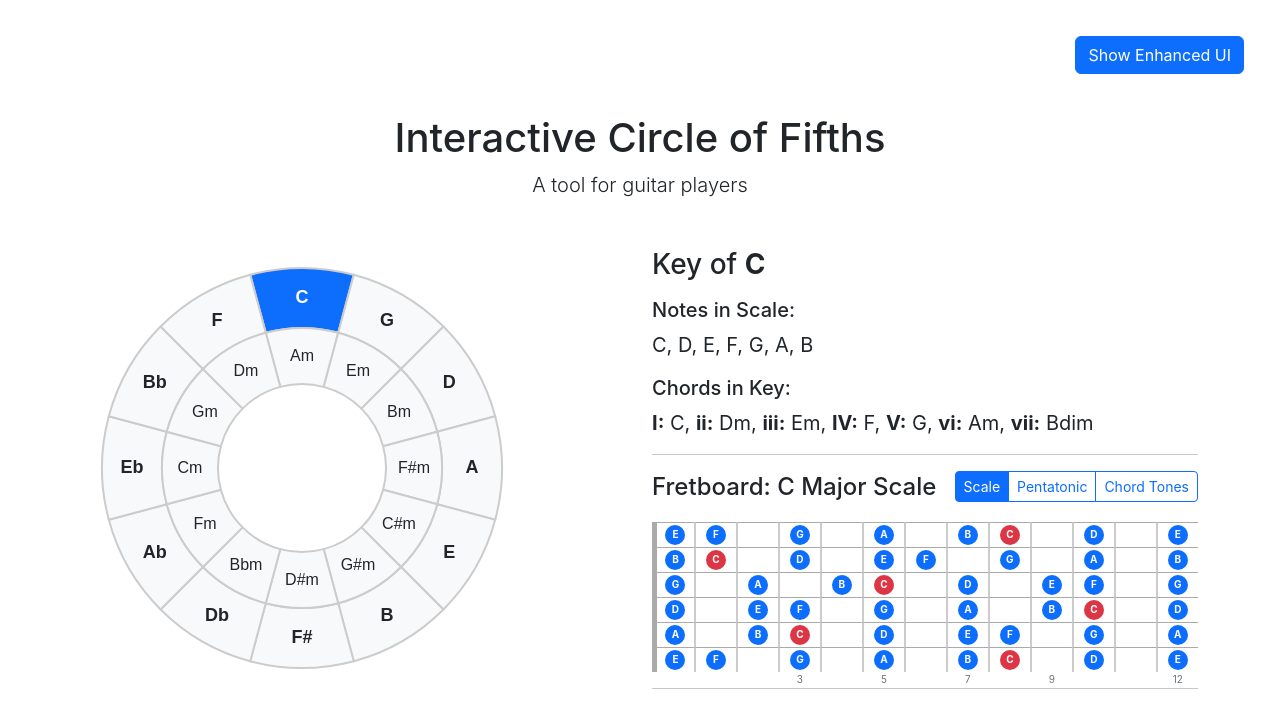
Test: toggles between original and enhanced UI
The image size is (1280, 704).
Expected: the text "A tool for guitar players" is shown, top-left (532, 173), bottom-right (748, 197)
Note: Click the toggle button
Click the button "Show Enhanced UI".
click(1160, 55)  # box top-left (1075, 36), bottom-right (1244, 74)
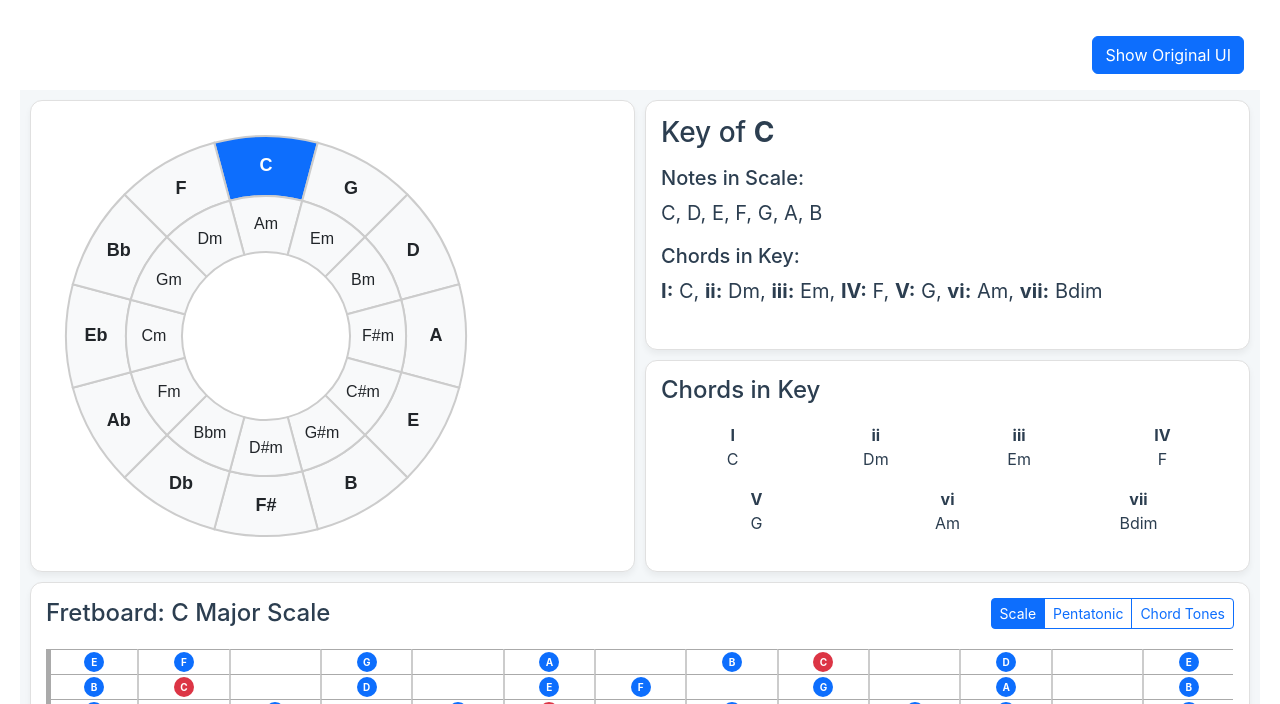
Now the text "A tool for guitar players" is gone
Note: Click the toggle button again
Click the button "Show Enhanced UI".
click(1168, 55)  # box top-left (1092, 36), bottom-right (1244, 74)
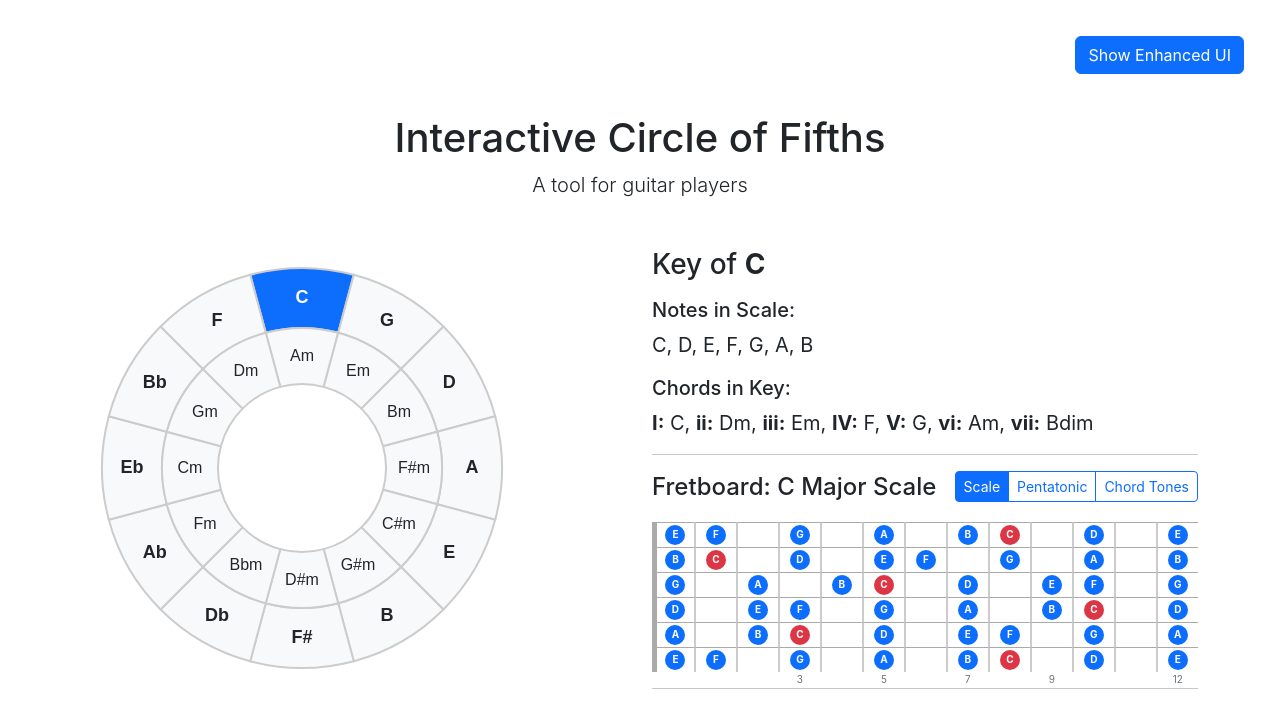
Now the text "A tool for guitar players" is shown, box top-left (532, 173), bottom-right (748, 197)
